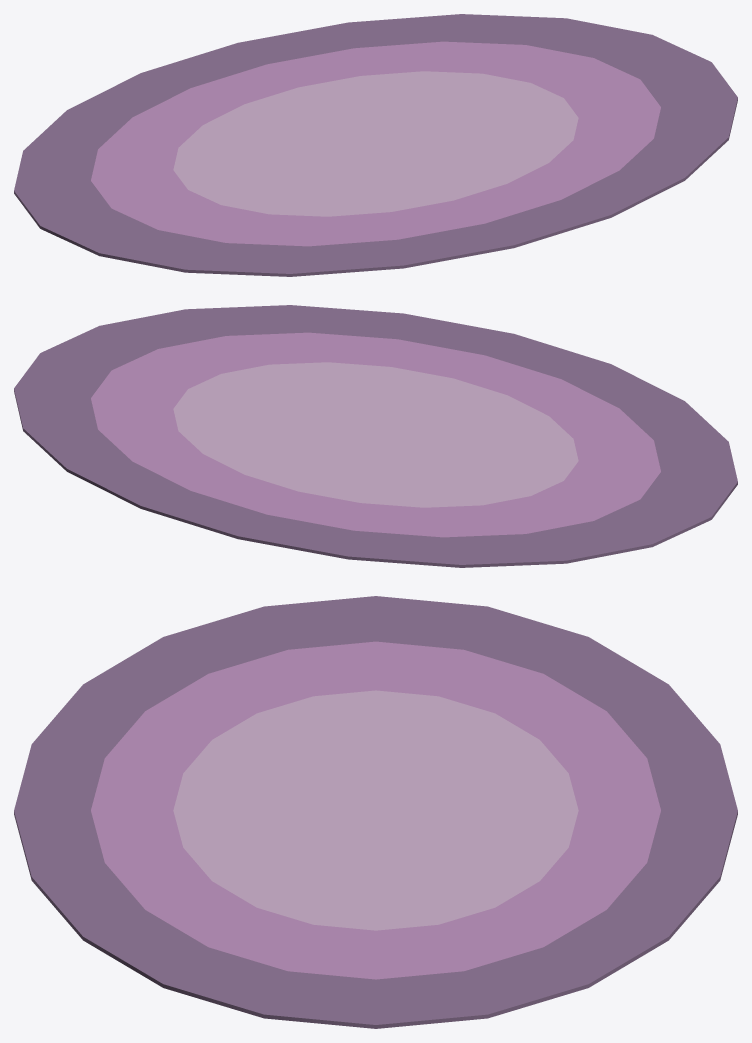
Rendered from 01kleed_rond_nieuwestijl.fbx.
The picture shows the model from 3 angles, top to bottom: view 1: azimuth 30°, elevation 25°; view 2: azimuth 150°, elevation 25°; view 3: azimuth 270°, elevation 25°; orthographic projection. The views are drawn at different scales.
Visible parts, largest first — view 1: pCylinder62; view 2: pCylinder62; view 3: pCylinder62.
Boxes of the visible parts, x1,y1,x2,y2 form: pCylinder62: (14,14,737,276); pCylinder62: (14,305,737,567); pCylinder62: (14,596,737,1028).
Size of the model in its own units: 2.48 by 0.0105 by 1.77.
